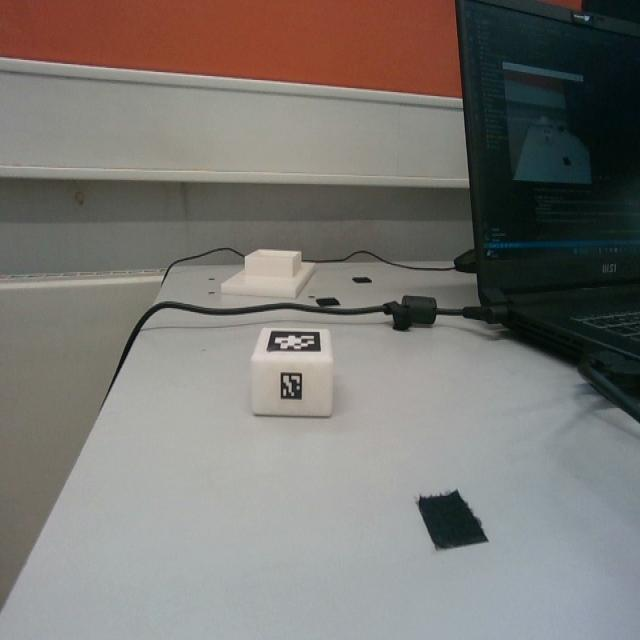Cube: (250, 326, 334, 418)
